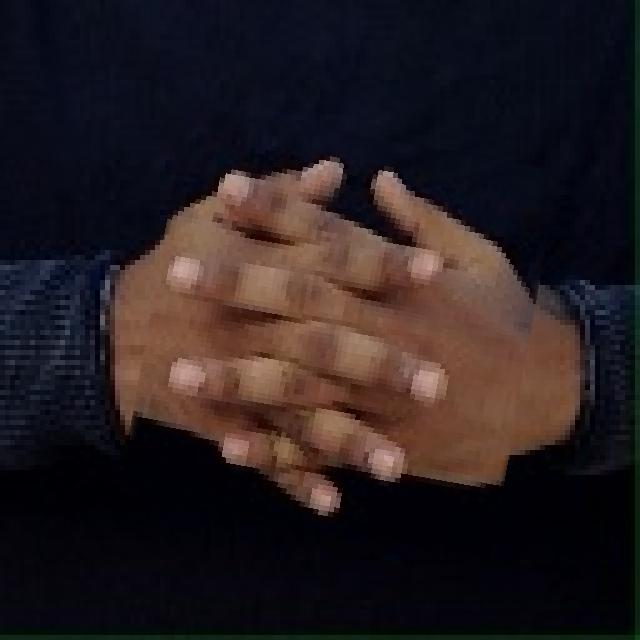W: (134, 120, 544, 543)
